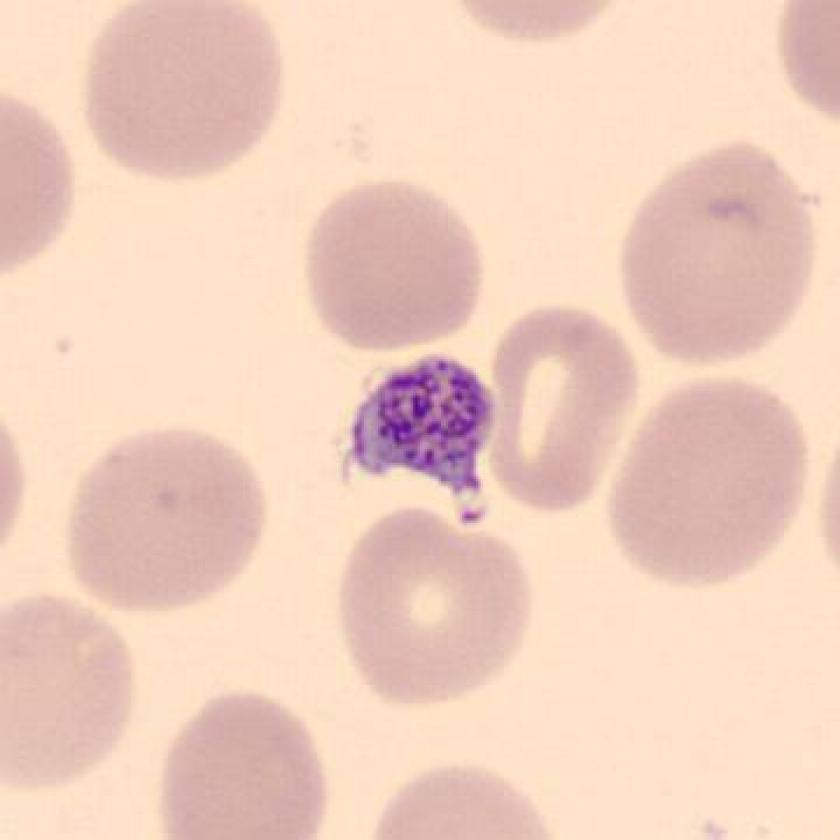platelets: (340, 346, 515, 529)
